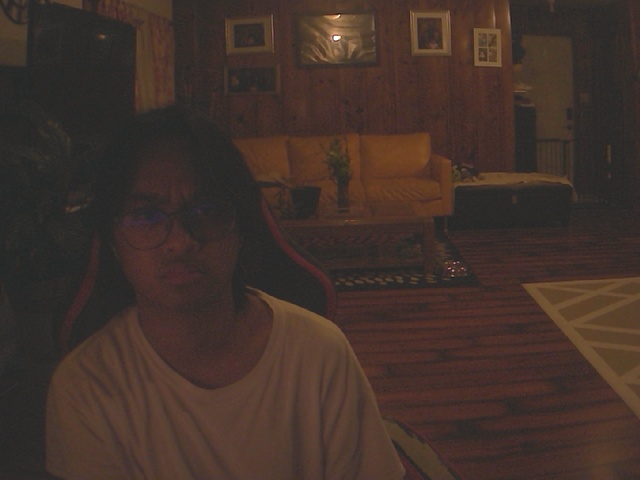anger: (86, 104, 259, 309)
